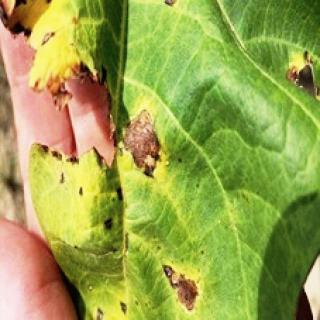blight: (0, 0, 172, 277), (160, 260, 203, 316)
